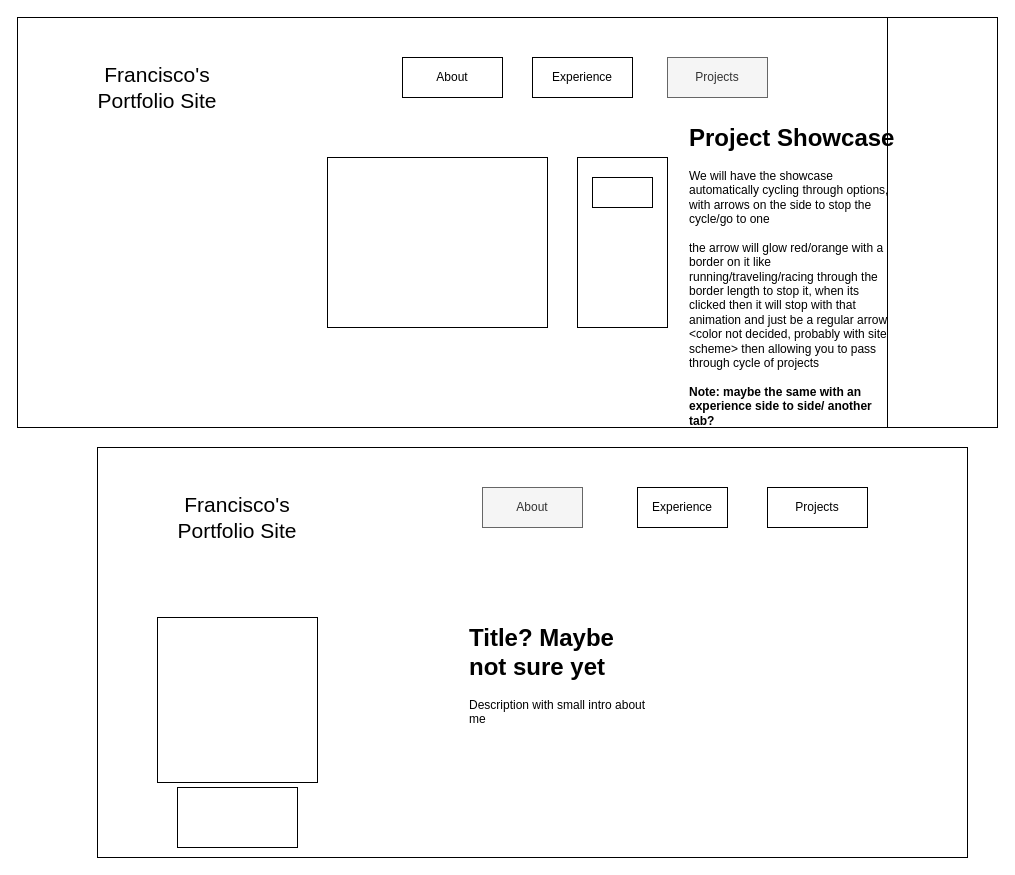
This 1015x875 diagram has some shape labels left out. The centre of each missing label's shape, as x and y in pixels:
"Picture" goes at pixel 237 699.
"Proj 1" goes at pixel 622 192.
"school logo picture" goes at pixel 237 817.
